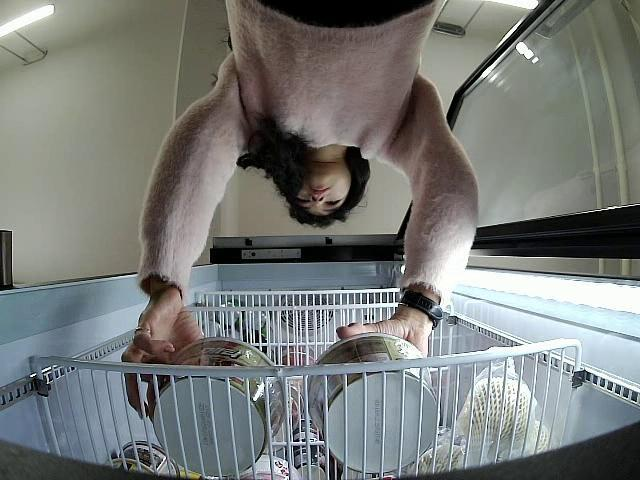03_chapagetti_L: (303, 332, 440, 474), (150, 336, 286, 477)
